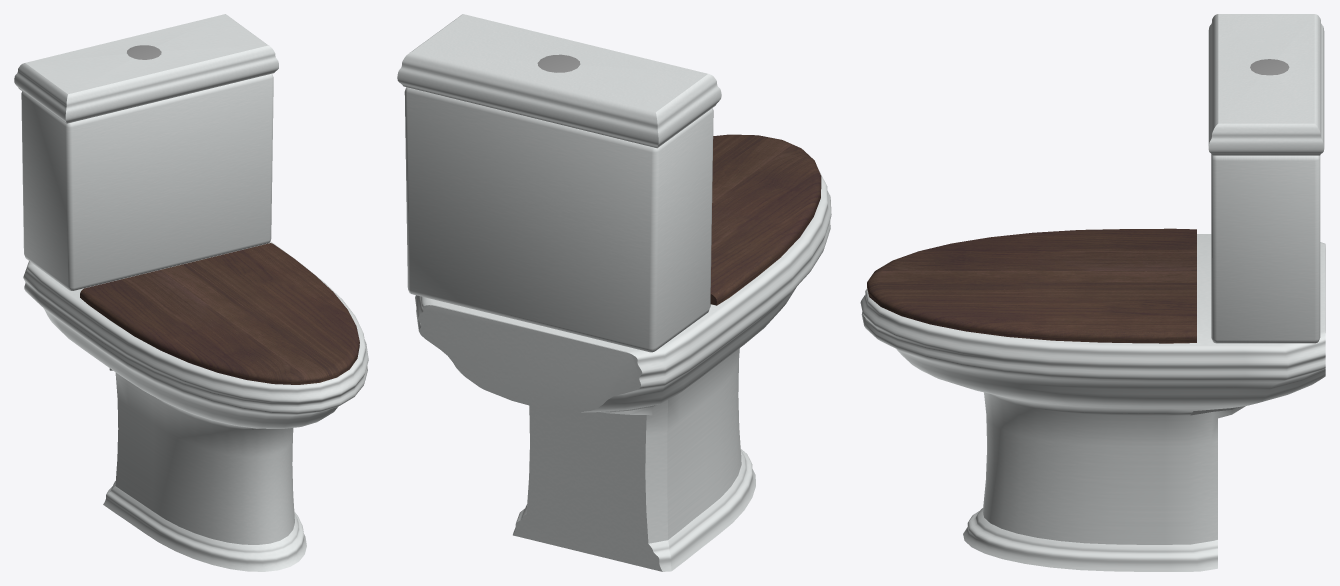
File: Toilet_B03.FBX
The picture shows the model from 3 angles, left to right: view 1: azimuth 30°, elevation 25°; view 2: azimuth 150°, elevation 25°; view 3: azimuth 270°, elevation 25°; orthographic projection. The views are drawn at different scales.
Parts seen in each view (by area): view 1: Toilet_B03; view 2: Toilet_B03; view 3: Toilet_B03.
Part boxes in pixels (<box>): Toilet_B03: <box>14,14,368,571</box>; Toilet_B03: <box>397,14,831,571</box>; Toilet_B03: <box>860,14,1325,571</box>.
Size of the model in its own units: 24.07 by 44.41 by 39.96.
